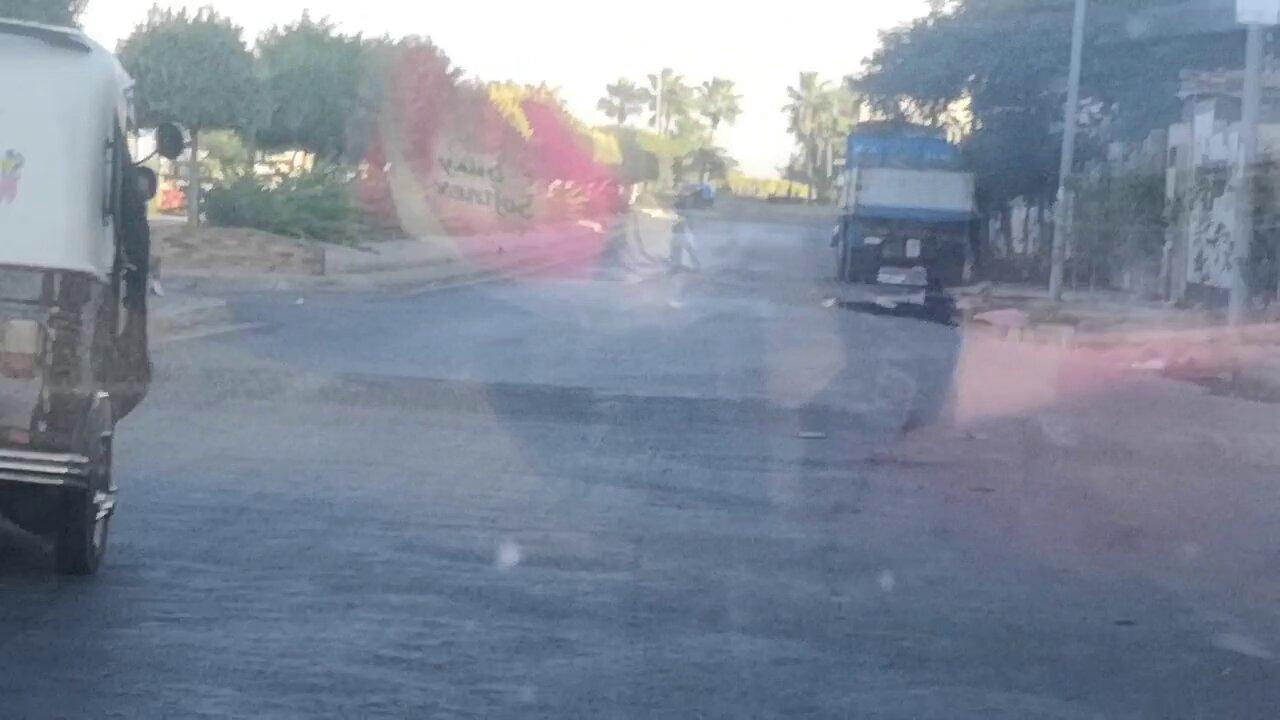Bump: (167, 393, 1280, 468)
